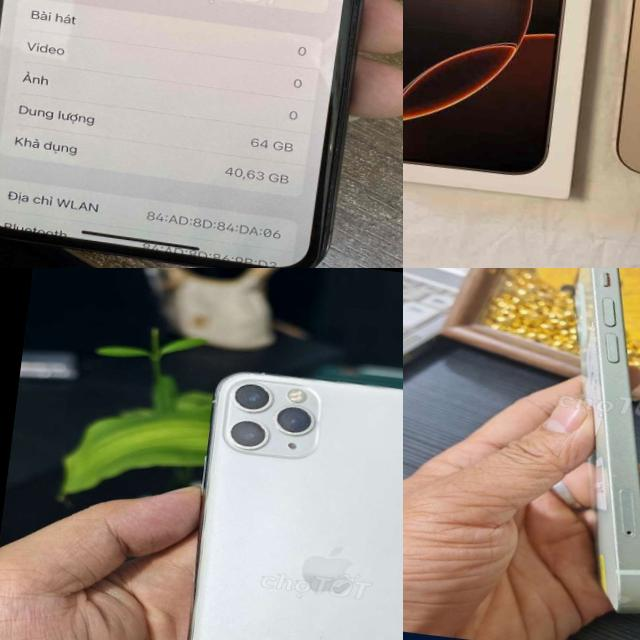scratch: (602, 585, 640, 616)
